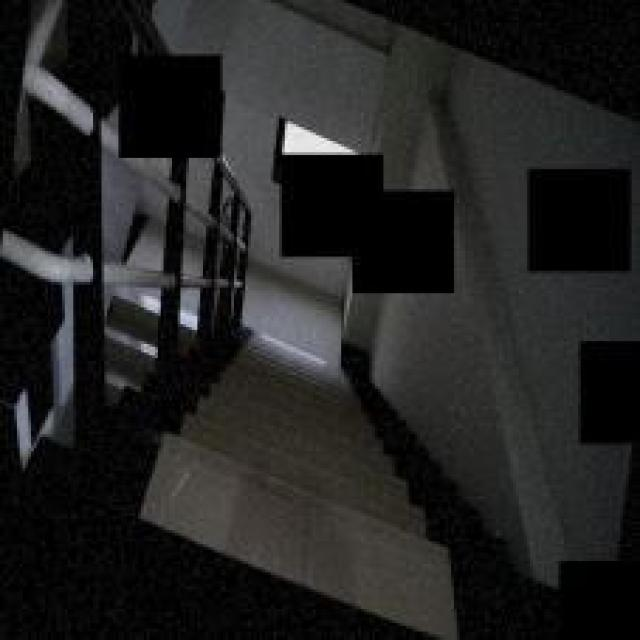downstair: (224, 314, 404, 638)
